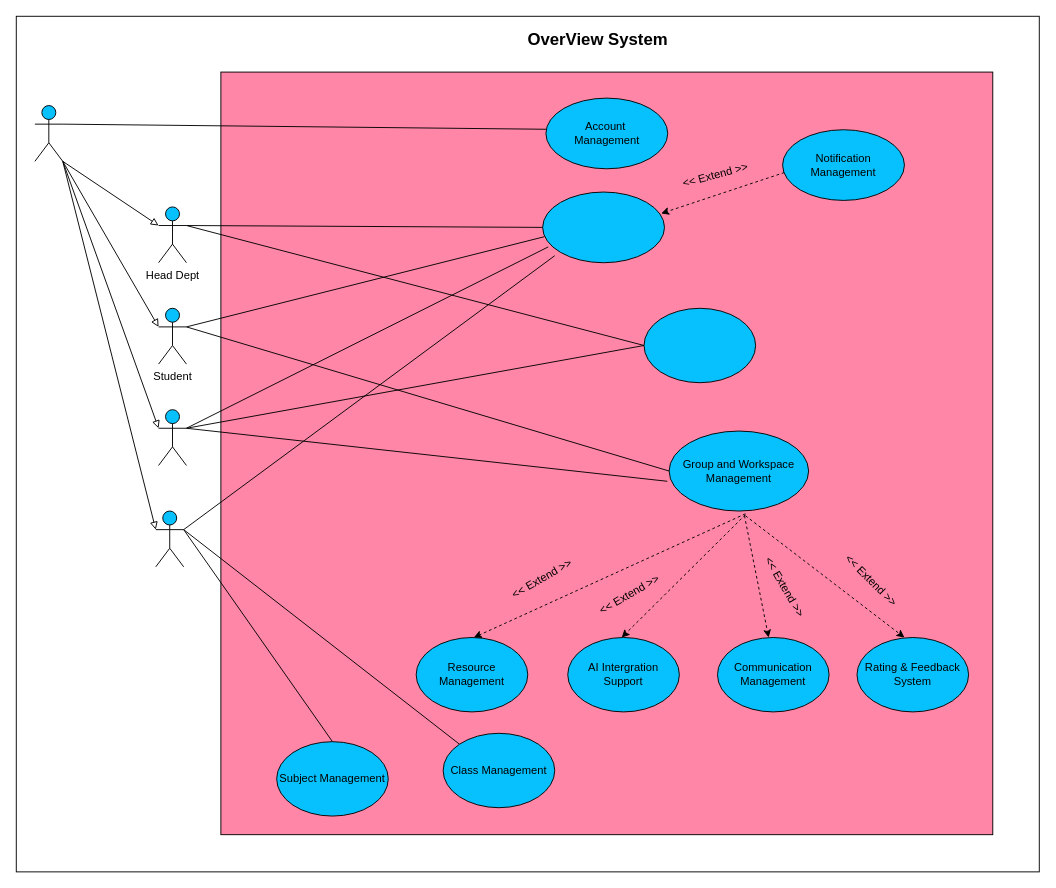
Some shapes in this 1056 by 888 pixel diagram are drawn without their labels. Each missing label, with the centre of its shape:
"Admin" belongs at [48,133].
"Lecturer" belongs at [172,437].
"Login" belongs at [603,227].
"Project Management" belongs at [699,345].
"Staff" belongs at [169,538].
